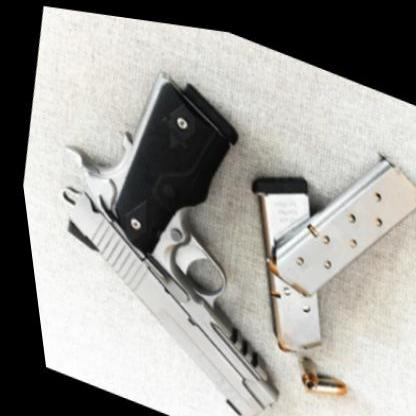pistol: (3, 27, 344, 413)
